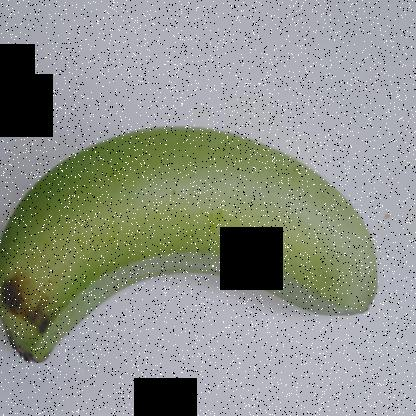freshunripe: (1, 122, 387, 376)
